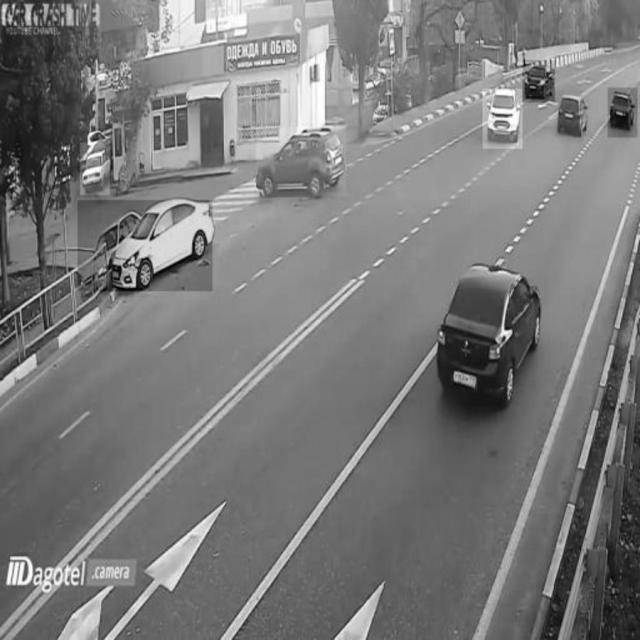accident: (79, 200, 213, 291)
vehicle: (429, 263, 547, 400), (257, 128, 347, 196), (483, 89, 523, 149), (555, 90, 591, 136), (81, 143, 111, 195), (607, 88, 637, 138), (523, 61, 555, 103)
